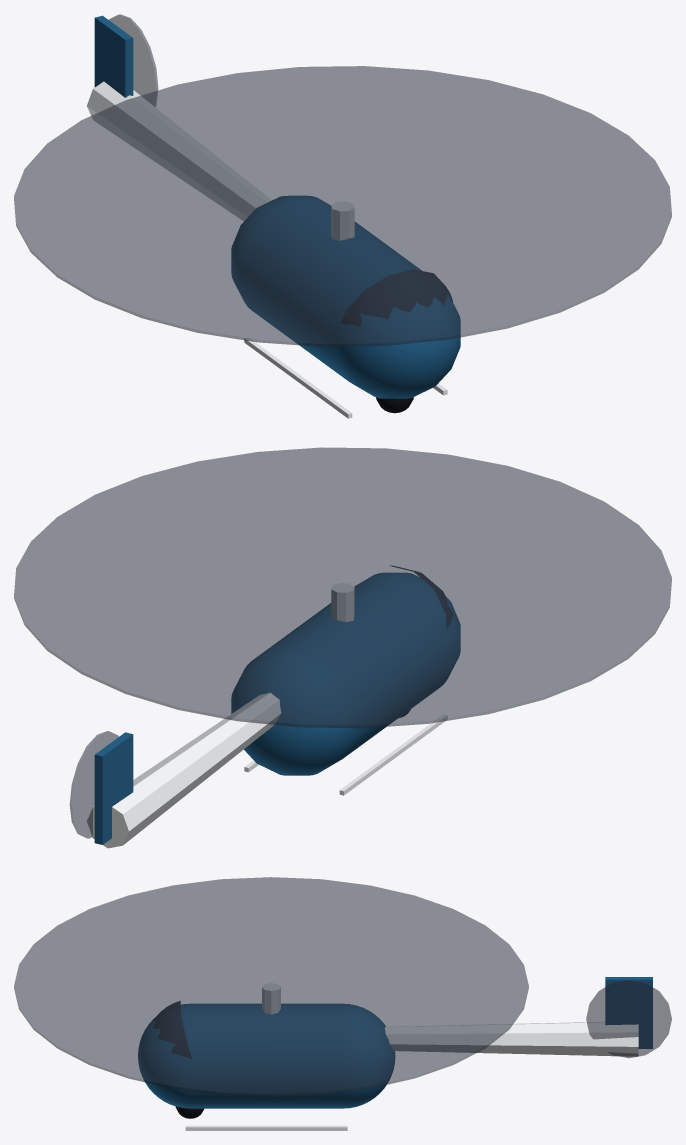
Rendered from tv_helicopter.glb.
3 renders of one model, top to bottom at view 1: azimuth 30°, elevation 25°; view 2: azimuth 150°, elevation 25°; view 3: azimuth 270°, elevation 25°, orthographic. The views are drawn at different scales.
Parts seen in each view (by area): view 1: heli; view 2: heli; view 3: heli.
Part boxes in pixels (box(x1,y1,x2,y2)): heli: box(14, 14, 671, 418); heli: box(14, 447, 671, 848); heli: box(14, 877, 671, 1130).
Size of the model in its own units: 10.8 by 3.32 by 13.8.
